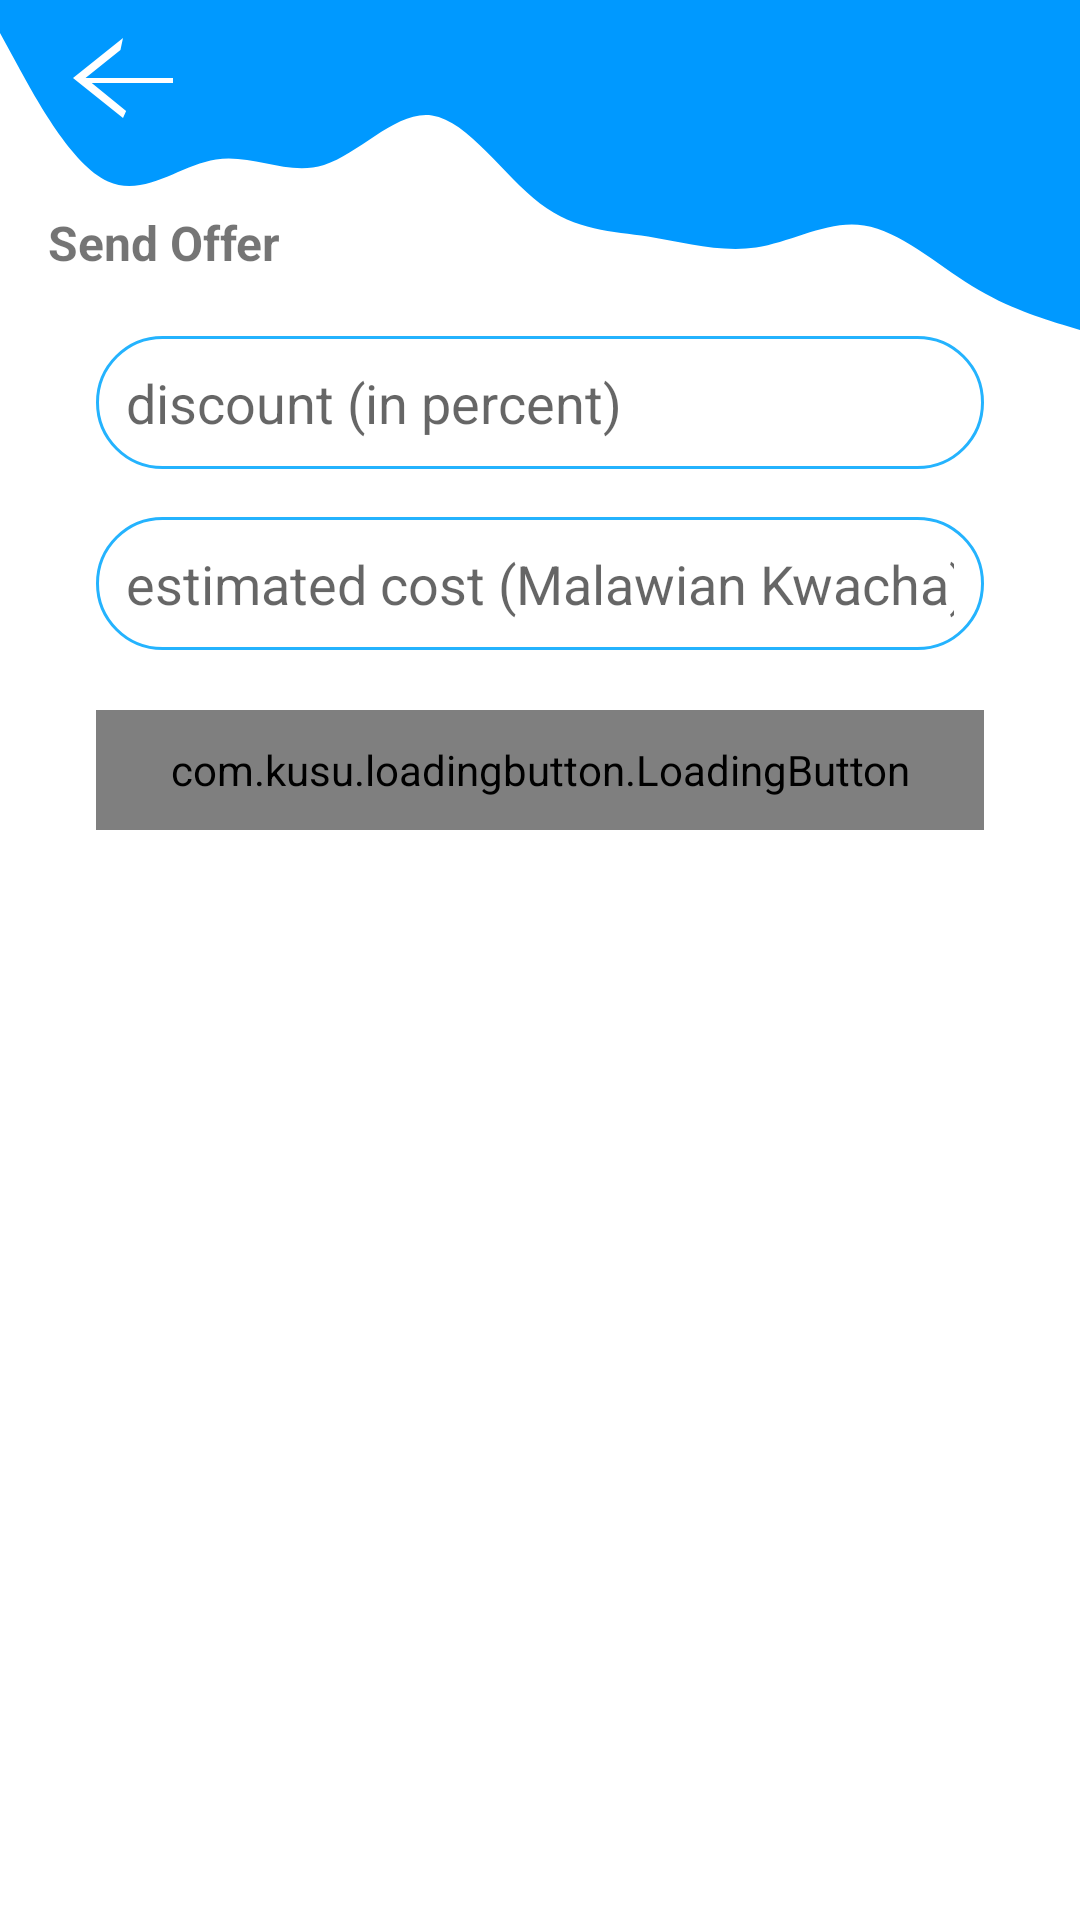

Icons on this 1080x1920 Android screen, each with its box as bbox(x1, y1, x2, y2):
back arrow: bbox(73, 38, 173, 118)
